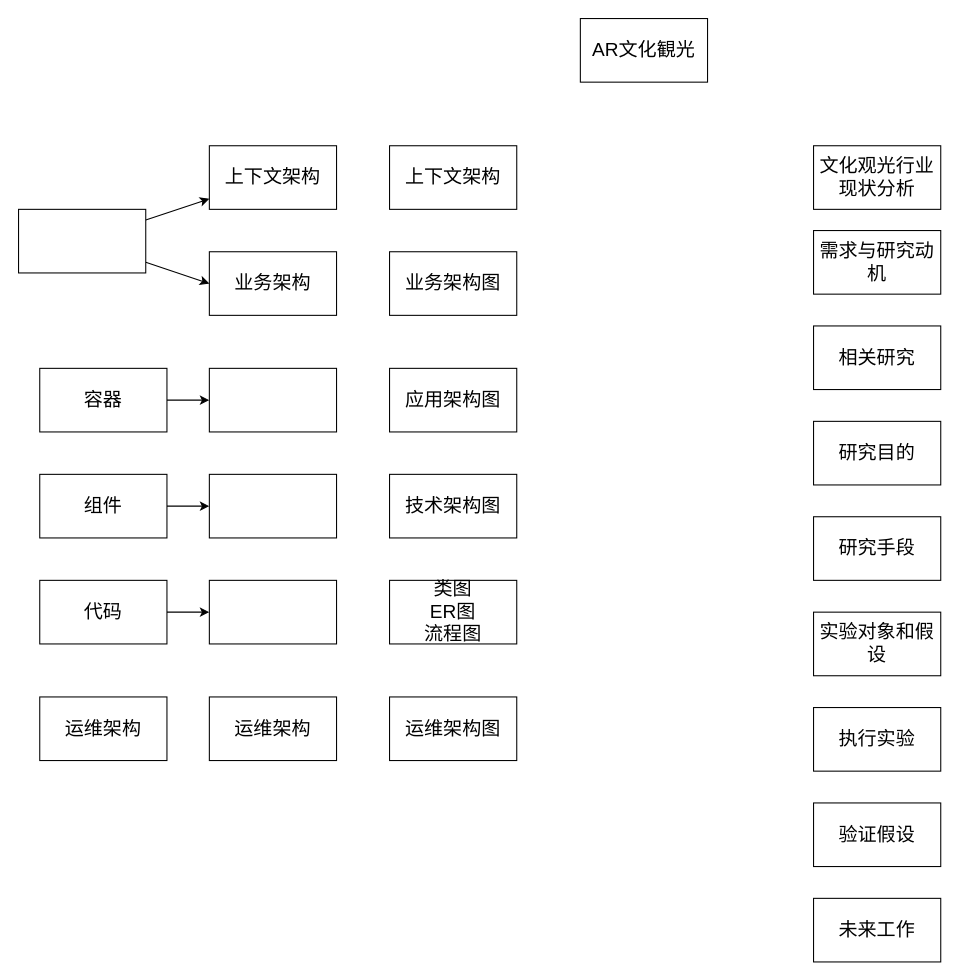
This 959x980 diagram has some shape labels left out. Each missing label, with the centre of its shape:
上下文: pixel 81 240
代码实现: pixel 272 611
应用架构: pixel 272 399
技术架构: pixel 272 505
